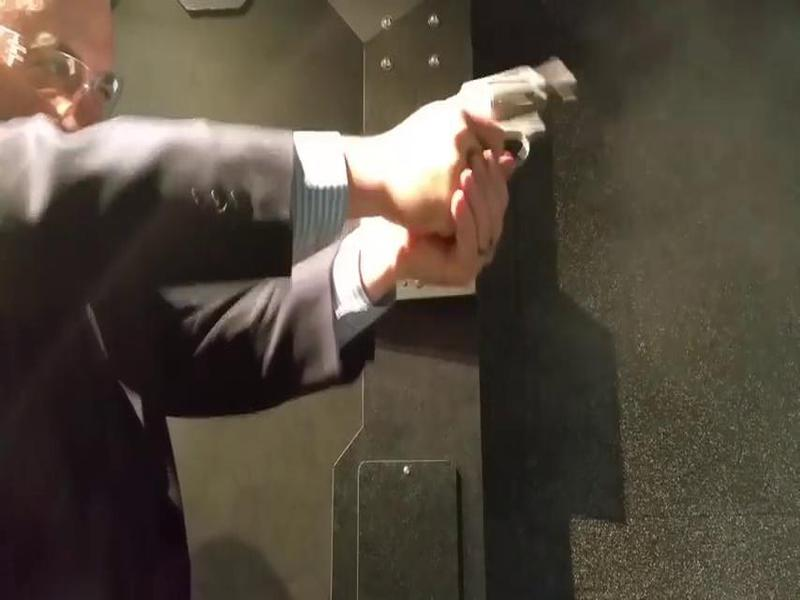Revolver: (432, 59, 582, 174)
